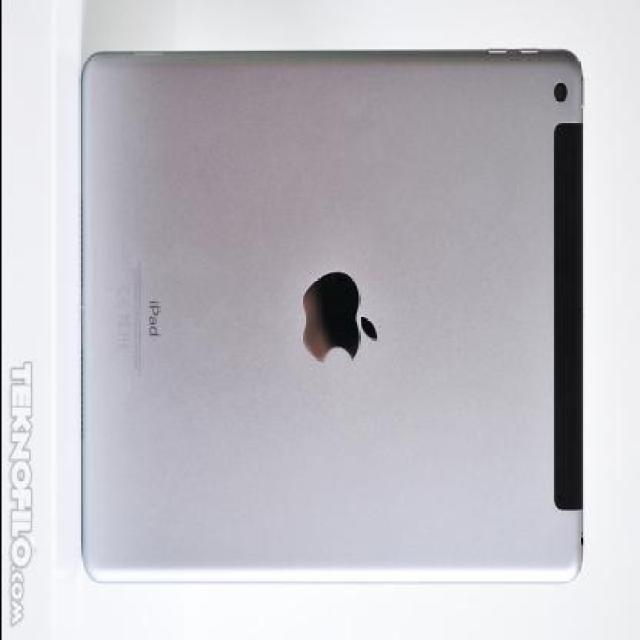tablet: (45, 34, 608, 602)
